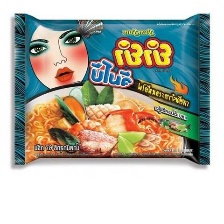snack: (5, 6, 218, 172)
